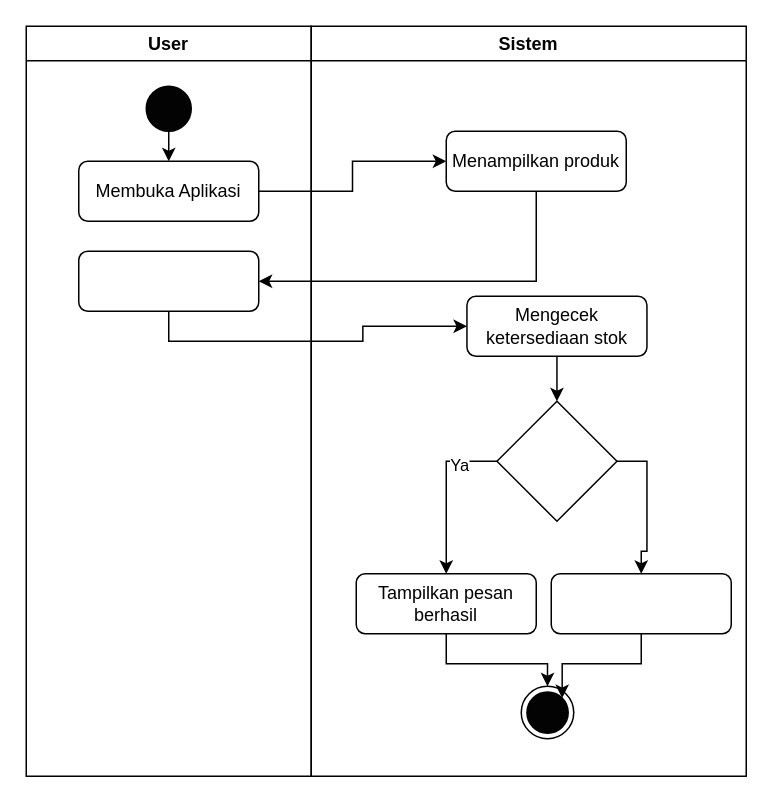
Some shapes in this 773 by 803 pixel diagram are drawn without their labels. The shapes that lost their labels are listed below. From the top down, each one's centre as x and y in pixels, then its label:
At point (168, 280): "Menambahkan produk ke keranjang".
At point (556, 460): "Stok tersedia ?".
At point (640, 603): "Tampilkan pesan error".
